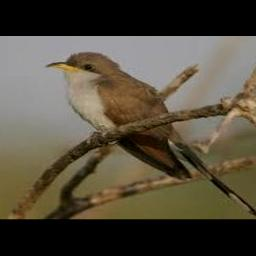Cuckoo: (46, 52, 256, 216)
